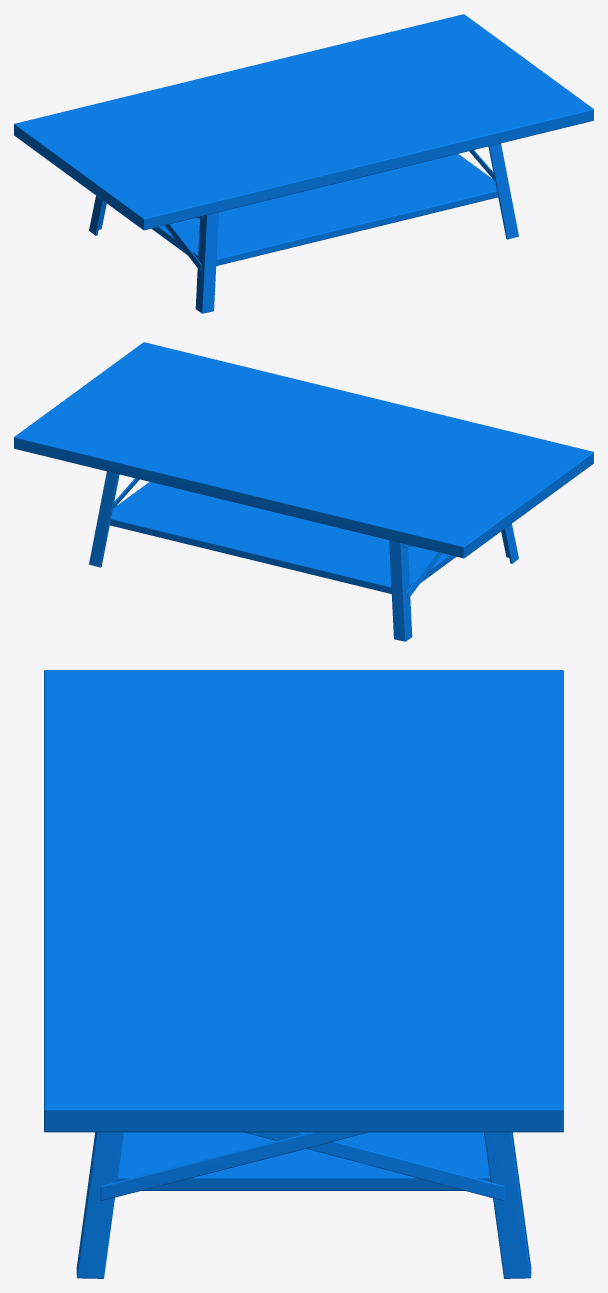
File: table.gltf
The picture shows the model from 3 angles, top to bottom: view 1: azimuth 30°, elevation 25°; view 2: azimuth 150°, elevation 25°; view 3: azimuth 270°, elevation 25°; orthographic projection. The views are drawn at different scales.
Visible parts, largest first — view 1: Plane.010_Plane.017, Plane.011_Plane.018, Plane.012_Plane.019; view 2: Plane.010_Plane.017, Plane.011_Plane.018, Plane.012_Plane.019; view 3: Plane.010_Plane.017, Plane.011_Plane.018, Plane.012_Plane.019.
Part boxes in pixels (x1,y1,x2,y2): Plane.010_Plane.017: [14, 14, 593, 265]; Plane.011_Plane.018: [89, 143, 518, 313]; Plane.012_Plane.019: [164, 150, 494, 271]; Plane.010_Plane.017: [14, 342, 593, 593]; Plane.011_Plane.018: [89, 471, 518, 641]; Plane.012_Plane.019: [113, 478, 442, 599]; Plane.010_Plane.017: [44, 670, 563, 1190]; Plane.011_Plane.018: [76, 1132, 531, 1278]; Plane.012_Plane.019: [100, 1132, 504, 1200].
Size of the model in its own units: 1.49 by 0.3723 by 0.7447.
